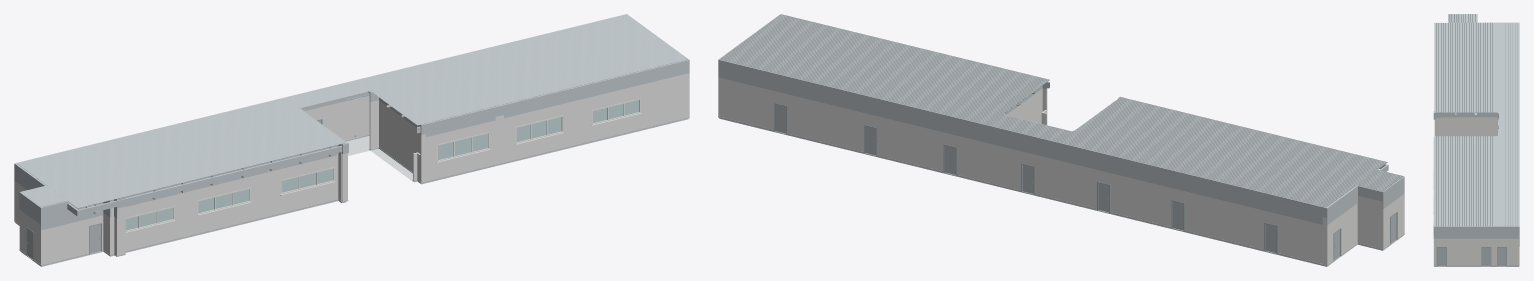
The model's file is space-editor.glb.
The picture shows the model from 3 angles, left to right: view 1: azimuth 30°, elevation 25°; view 2: azimuth 150°, elevation 25°; view 3: azimuth 270°, elevation 25°; orthographic projection. The views are drawn at different scales.
Parts seen in each view (by area): view 1: Space_ceiling, Space_windows, Wall_35_Clean, Wall_18_Clean, Wall_34_Clean, Wall_27_Clean, Wall_31_Clean, Wall_23_Clean, Wall_19_Clean, Wall_38_Clean, Floor_Continuous_00, Space_fixtures (+5 smaller); view 2: Space_ceiling, Wall_38_Clean, Space_doors, Wall_15_Clean, Wall_0_Clean, Floor_Continuous_00, Space_fixtures, Wall_4_Clean, Wall_19_Clean; view 3: Space_ceiling, Wall_13_Clean, Wall_2_Clean, Space_doors, Space_fixtures, Floor_Continuous_00, Wall_22_Clean.
Boxes of the visible parts, box(x1,y1,x2,y2) form: Space_ceiling: box(14, 14, 689, 230); Space_windows: box(125, 98, 641, 233); Wall_35_Clean: box(125, 174, 262, 250); Wall_18_Clean: box(577, 73, 688, 144); Wall_34_Clean: box(262, 155, 337, 217); Wall_27_Clean: box(504, 100, 577, 162); Wall_31_Clean: box(426, 120, 495, 181); Wall_23_Clean: box(40, 215, 103, 264); Wall_19_Clean: box(379, 100, 420, 171); Wall_38_Clean: box(304, 95, 369, 140); Floor_Continuous_00: box(15, 118, 688, 266); Space_fixtures: box(14, 117, 689, 265); Space_ceiling: box(718, 14, 1404, 224); Wall_38_Clean: box(718, 77, 1322, 263); Space_doors: box(774, 103, 1397, 260); Wall_15_Clean: box(1357, 195, 1383, 248); Wall_0_Clean: box(1326, 203, 1357, 264); Floor_Continuous_00: box(719, 118, 1403, 266); Space_fixtures: box(718, 116, 1404, 265); Wall_4_Clean: box(1382, 194, 1403, 248); Wall_19_Clean: box(1006, 88, 1042, 123); Space_ceiling: box(1433, 14, 1519, 238); Wall_13_Clean: box(1434, 238, 1519, 266); Wall_2_Clean: box(1440, 117, 1497, 136); Space_doors: box(1436, 239, 1519, 266); Space_fixtures: box(1433, 239, 1519, 266); Floor_Continuous_00: box(1434, 118, 1518, 266); Wall_22_Clean: box(1435, 118, 1439, 136).
Size of the model in its own units: 49.66 by 4.46 by 8.54.
